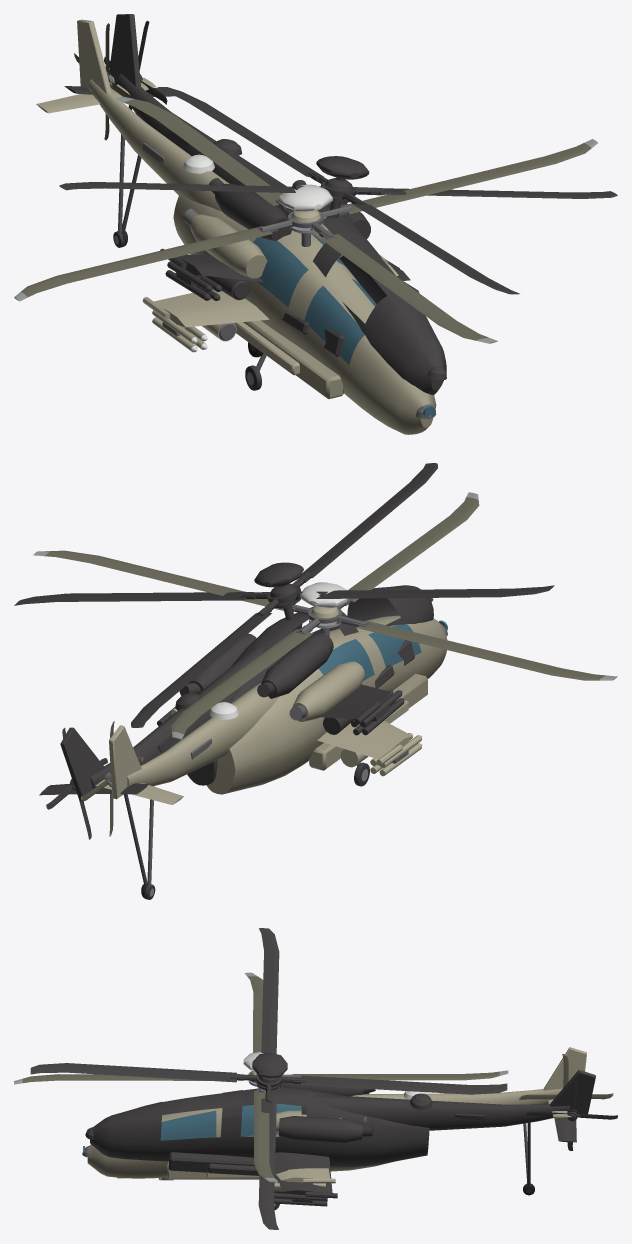
Rendered from gunship__ah_64_saraf.glb.
3 views of the same model, one above another, from view 1: azimuth 30°, elevation 25°; view 2: azimuth 150°, elevation 25°; view 3: azimuth 270°, elevation 25° (orthographic). The views are drawn at different scales.
Visible parts, largest first — view 1: Wreck, Fuselage_Mesh, Rotor_Main_Mesh, Stub_Wings_Stores_Mesh, Engines_Mesh, Rotor_Mast_Mesh, Landing_Gear_Mesh, Rotor_Tail_Mesh; view 2: Wreck, Fuselage_Mesh, Rotor_Main_Mesh, Stub_Wings_Stores_Mesh, Engines_Mesh, Landing_Gear_Mesh, Rotor_Mast_Mesh; view 3: Wreck, Fuselage_Mesh, Rotor_Main_Mesh, Stub_Wings_Stores_Mesh, Rotor_Tail_Mesh.
Boxes of the visible parts, x1=… form: Wreck: x1=59, y1=14, x2=617, y2=394; Fuselage_Mesh: x1=36, y1=19, x2=436, y2=434; Rotor_Main_Mesh: x1=14, y1=96, x2=597, y2=343; Stub_Wings_Stores_Mesh: x1=142, y1=255, x2=398, y2=352; Engines_Mesh: x1=182, y1=208, x2=342, y2=278; Rotor_Mast_Mesh: x1=279, y1=184, x2=332, y2=246; Landing_Gear_Mesh: x1=113, y1=134, x2=266, y2=390; Rotor_Tail_Mesh: x1=74, y1=23, x2=139, y2=140; Wreck: x1=14, y1=463, x2=554, y2=897; Fuselage_Mesh: x1=70, y1=615, x2=447, y2=804; Rotor_Main_Mesh: x1=33, y1=492, x2=617, y2=739; Stub_Wings_Stores_Mesh: x1=171, y1=708, x2=422, y2=776; Engines_Mesh: x1=289, y1=661, x2=364, y2=721; Landing_Gear_Mesh: x1=143, y1=762, x2=369, y2=899; Rotor_Mast_Mesh: x1=300, y1=582, x2=348, y2=636; Wreck: x1=30, y1=928, x2=617, y2=1229; Fuselage_Mesh: x1=82, y1=1047, x2=586, y2=1179; Rotor_Main_Mesh: x1=14, y1=972, x2=508, y2=1182; Stub_Wings_Stores_Mesh: x1=274, y1=1168, x2=335, y2=1188; Rotor_Tail_Mesh: x1=519, y1=1054, x2=613, y2=1100.
Size of what is drawn, in the model's own units: 15.09 by 5.94 by 17.87.
